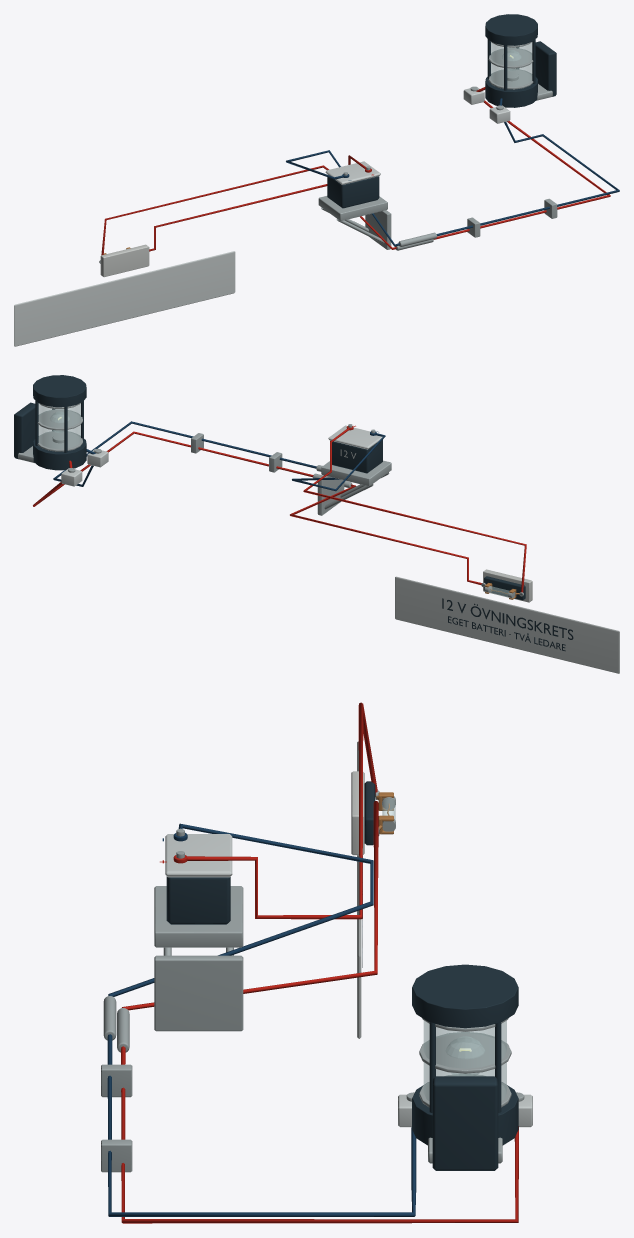
Rendered from bridge-lantern-v1.glb.
The picture shows the model from 3 angles, top to bottom: view 1: azimuth 30°, elevation 25°; view 2: azimuth 150°, elevation 25°; view 3: azimuth 270°, elevation 25°; orthographic projection. The views are drawn at different scales.
Parts seen in each view (by area): view 1: Healthy 12 V practice equipment, Practice lamp and intact fuse glass; view 2: Healthy 12 V practice equipment, Practice lamp and intact fuse glass; view 3: Healthy 12 V practice equipment, Practice lamp and intact fuse glass.
Part boxes in pixels (x1,y1,x2,y2): Healthy 12 V practice equipment: (14, 14, 619, 346); Practice lamp and intact fuse glass: (491, 42, 532, 86); Healthy 12 V practice equipment: (14, 375, 619, 673); Practice lamp and intact fuse glass: (38, 403, 509, 596); Healthy 12 V practice equipment: (101, 702, 532, 1223); Practice lamp and intact fuse glass: (382, 798, 506, 1100).
Size of the model in its own units: 2.92 by 0.867 by 0.972.
